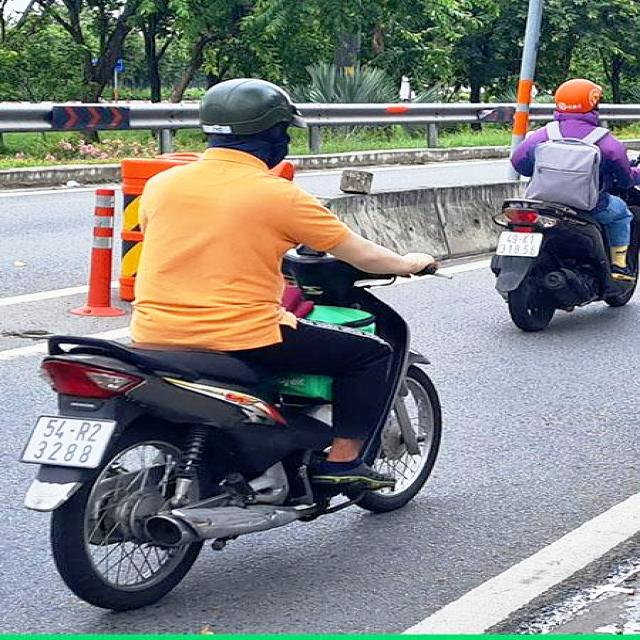license_plate: (20, 418, 117, 468), (499, 233, 543, 257)
